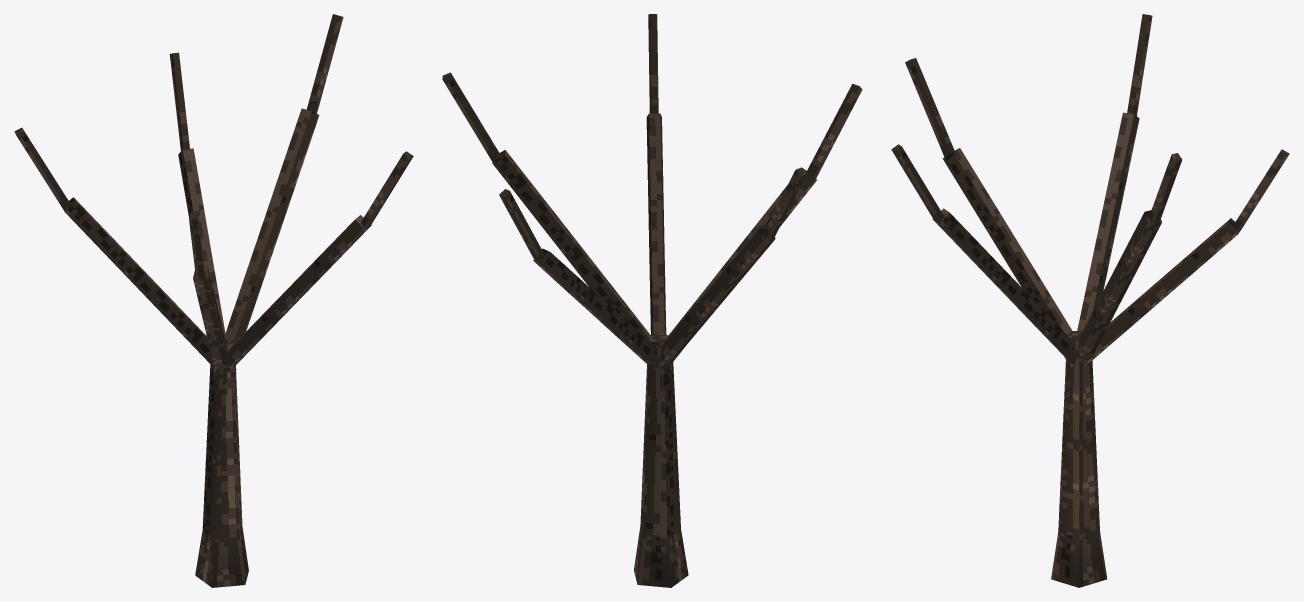
File: mnat.orchard__bare.glb
3 renders of one model, left to right at view 1: azimuth 30°, elevation 25°; view 2: azimuth 150°, elevation 25°; view 3: azimuth 270°, elevation 25°, orthographic. The views are drawn at different scales.
Parts seen in each view (by area): view 1: kit_trunk; view 2: kit_trunk; view 3: kit_trunk.
Boxes of the visible parts, <box> form: kit_trunk: <box>14,14,413,587</box>; kit_trunk: <box>442,14,862,587</box>; kit_trunk: <box>891,14,1289,587</box>.
Size of the model in its own units: 3.14 by 4.28 by 3.09.
Materials: 1 (1 with a texture image).
